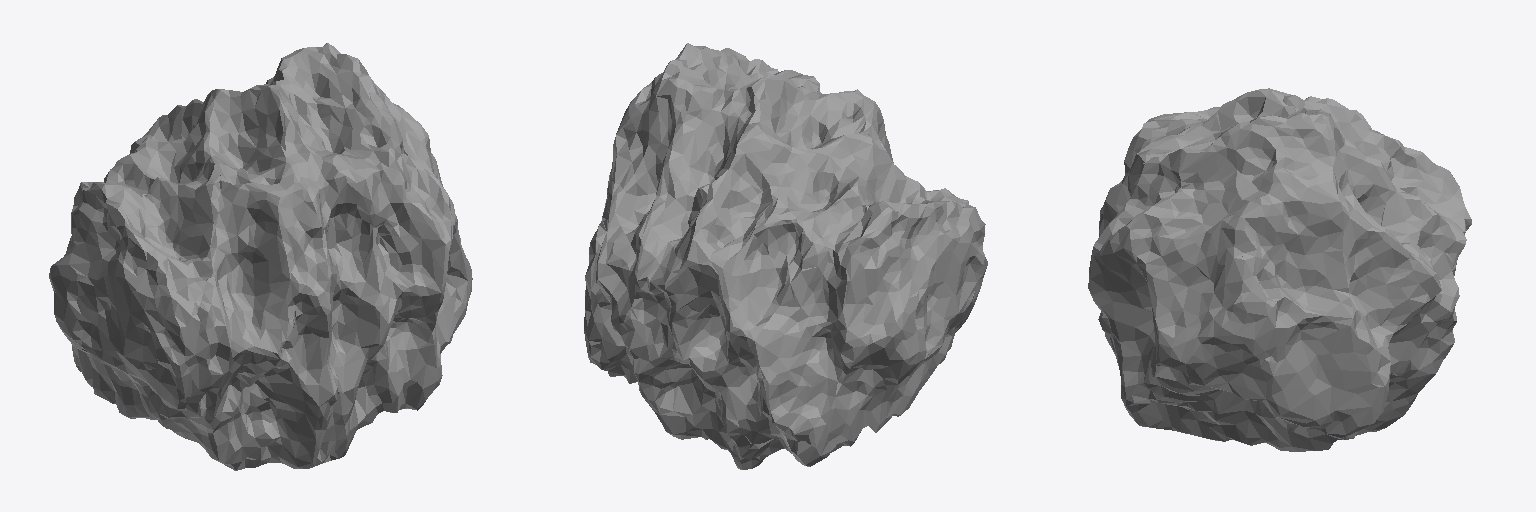
File: Asteroid_2_LOW_MODEL_.obj
3 views of the same model, side by side, from view 1: azimuth 30°, elevation 25°; view 2: azimuth 150°, elevation 25°; view 3: azimuth 270°, elevation 25° (orthographic).
Visible parts, largest first — view 1: ASTEROID_LOW_POLY_2__Reduced_ASTEROID_LOW_POLY_2__Cube.001; view 2: ASTEROID_LOW_POLY_2__Reduced_ASTEROID_LOW_POLY_2__Cube.001; view 3: ASTEROID_LOW_POLY_2__Reduced_ASTEROID_LOW_POLY_2__Cube.001.
Boxes of the visible parts, box(x1,y1,x2,y2) form: ASTEROID_LOW_POLY_2__Reduced_ASTEROID_LOW_POLY_2__Cube.001: box(49, 43, 472, 470); ASTEROID_LOW_POLY_2__Reduced_ASTEROID_LOW_POLY_2__Cube.001: box(584, 43, 987, 469); ASTEROID_LOW_POLY_2__Reduced_ASTEROID_LOW_POLY_2__Cube.001: box(1088, 88, 1471, 451).
Bounding box in the file's own units: 2.04 × 2.09 × 1.97.